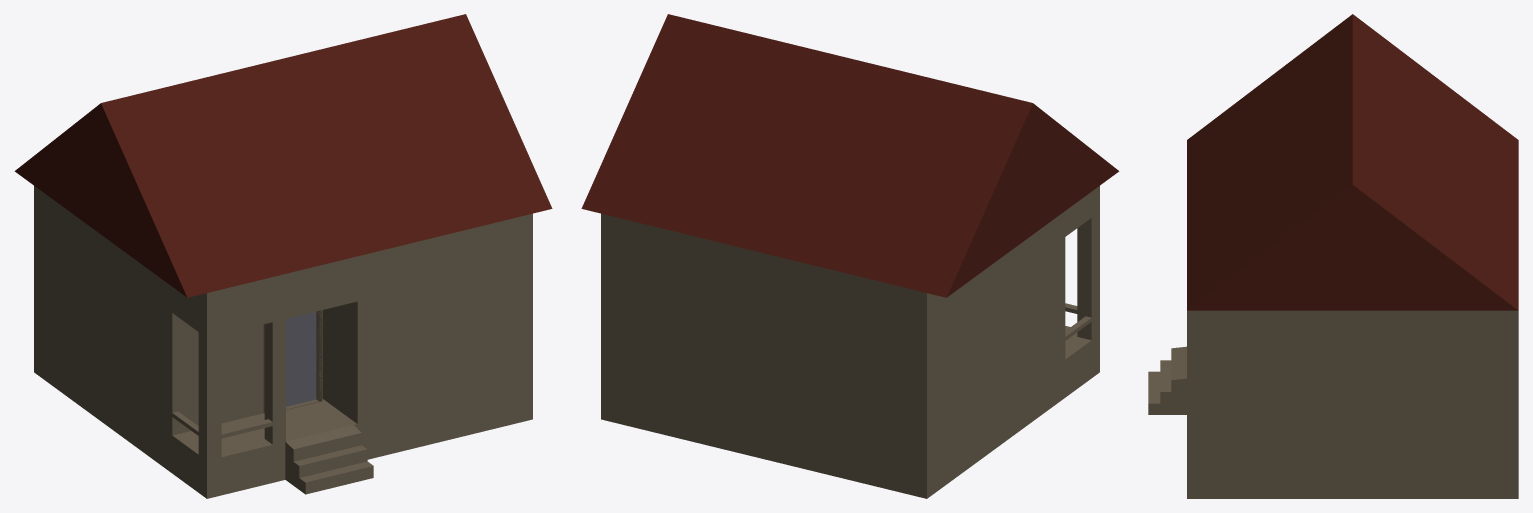
File: NeighboursHouse.fbx
3 views of the same model, side by side, from view 1: azimuth 30°, elevation 25°; view 2: azimuth 150°, elevation 25°; view 3: azimuth 270°, elevation 25° (orthographic). The views are drawn at different scales.
Visible parts, largest first — view 1: NewHouse; view 2: NewHouse; view 3: NewHouse.
Part boxes in pixels (bbox=[...]): NewHouse: bbox=[14, 14, 552, 498]; NewHouse: bbox=[581, 14, 1119, 498]; NewHouse: bbox=[1148, 14, 1518, 498].
Size of the model in its own units: 913 by 807 by 837.
